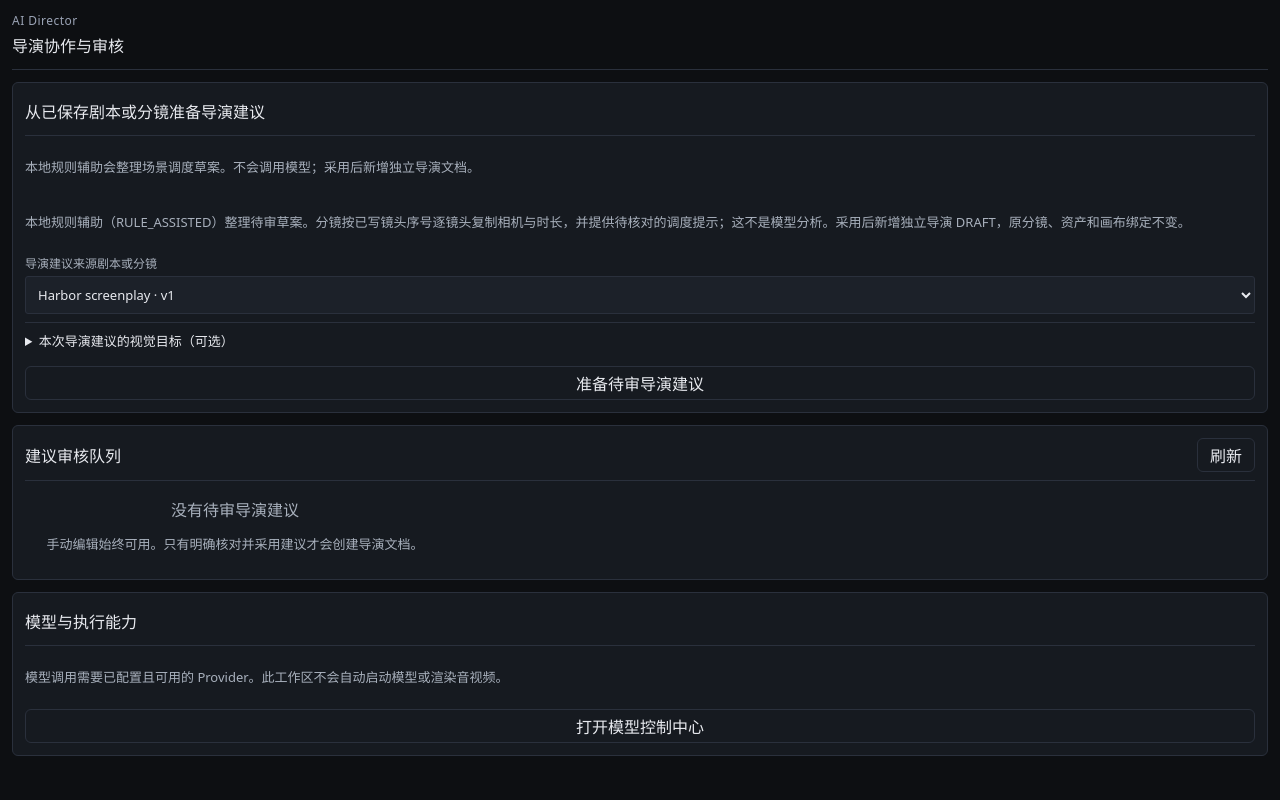
Test case: director proposal activation after a fast receipt › preserves keyboard-style button activation with zero click detail
Expected: the text "没有待审导演建议" is shown, [171,499,299,521]
Click the button "准备待审导演建议" at (640, 383), box [25,366,1255,400]
(page scrolled)
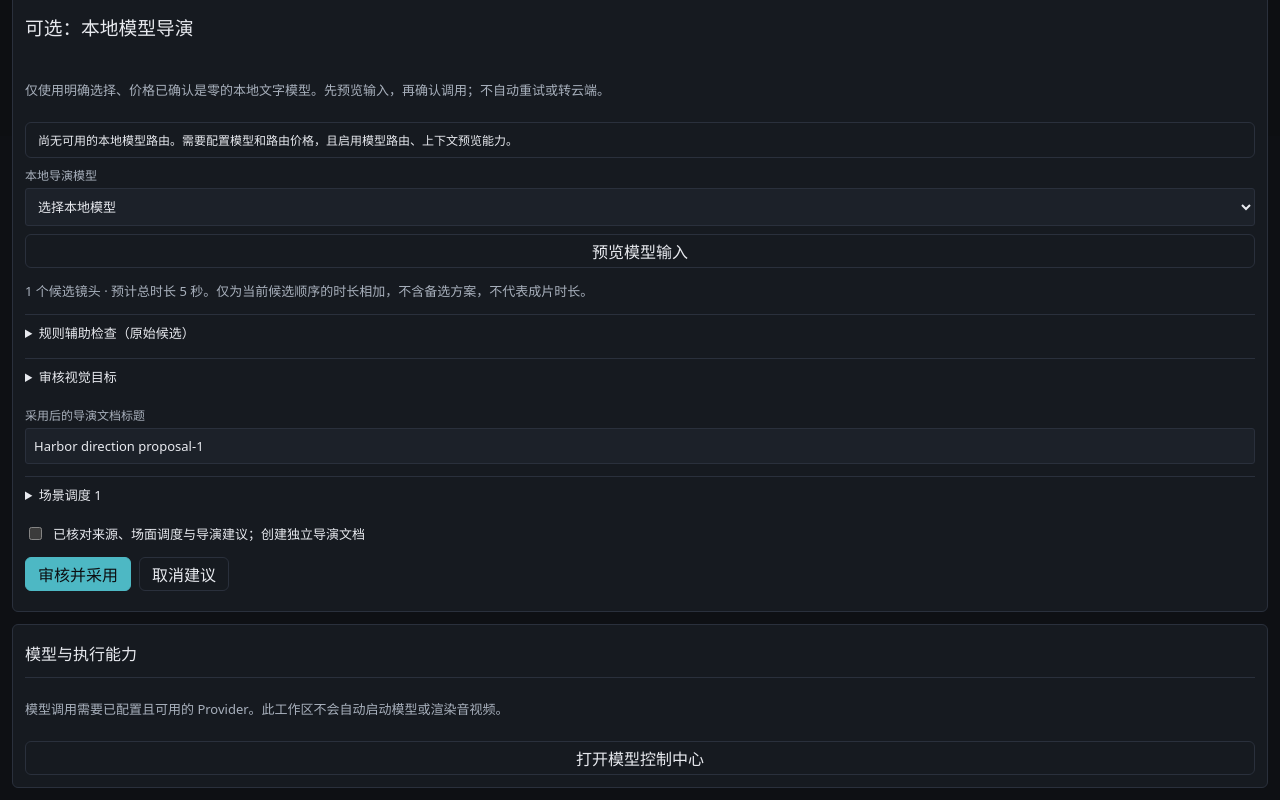
Expected: the field labelled "采用后的导演文档标题" holds "Harbor direction proposal-1", [25,428,1255,464]
